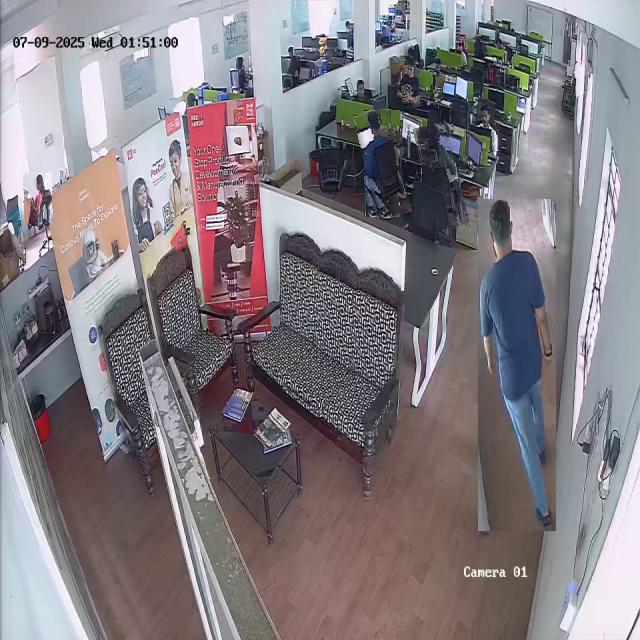person: (478, 199, 556, 531), (359, 109, 406, 218), (418, 122, 463, 229), (23, 173, 53, 226), (393, 58, 422, 109), (473, 105, 502, 152)
